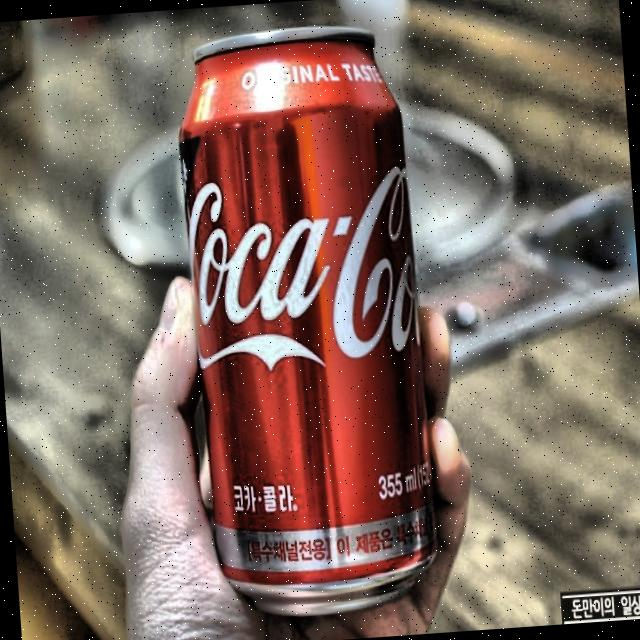cocacola: (165, 16, 442, 618)
